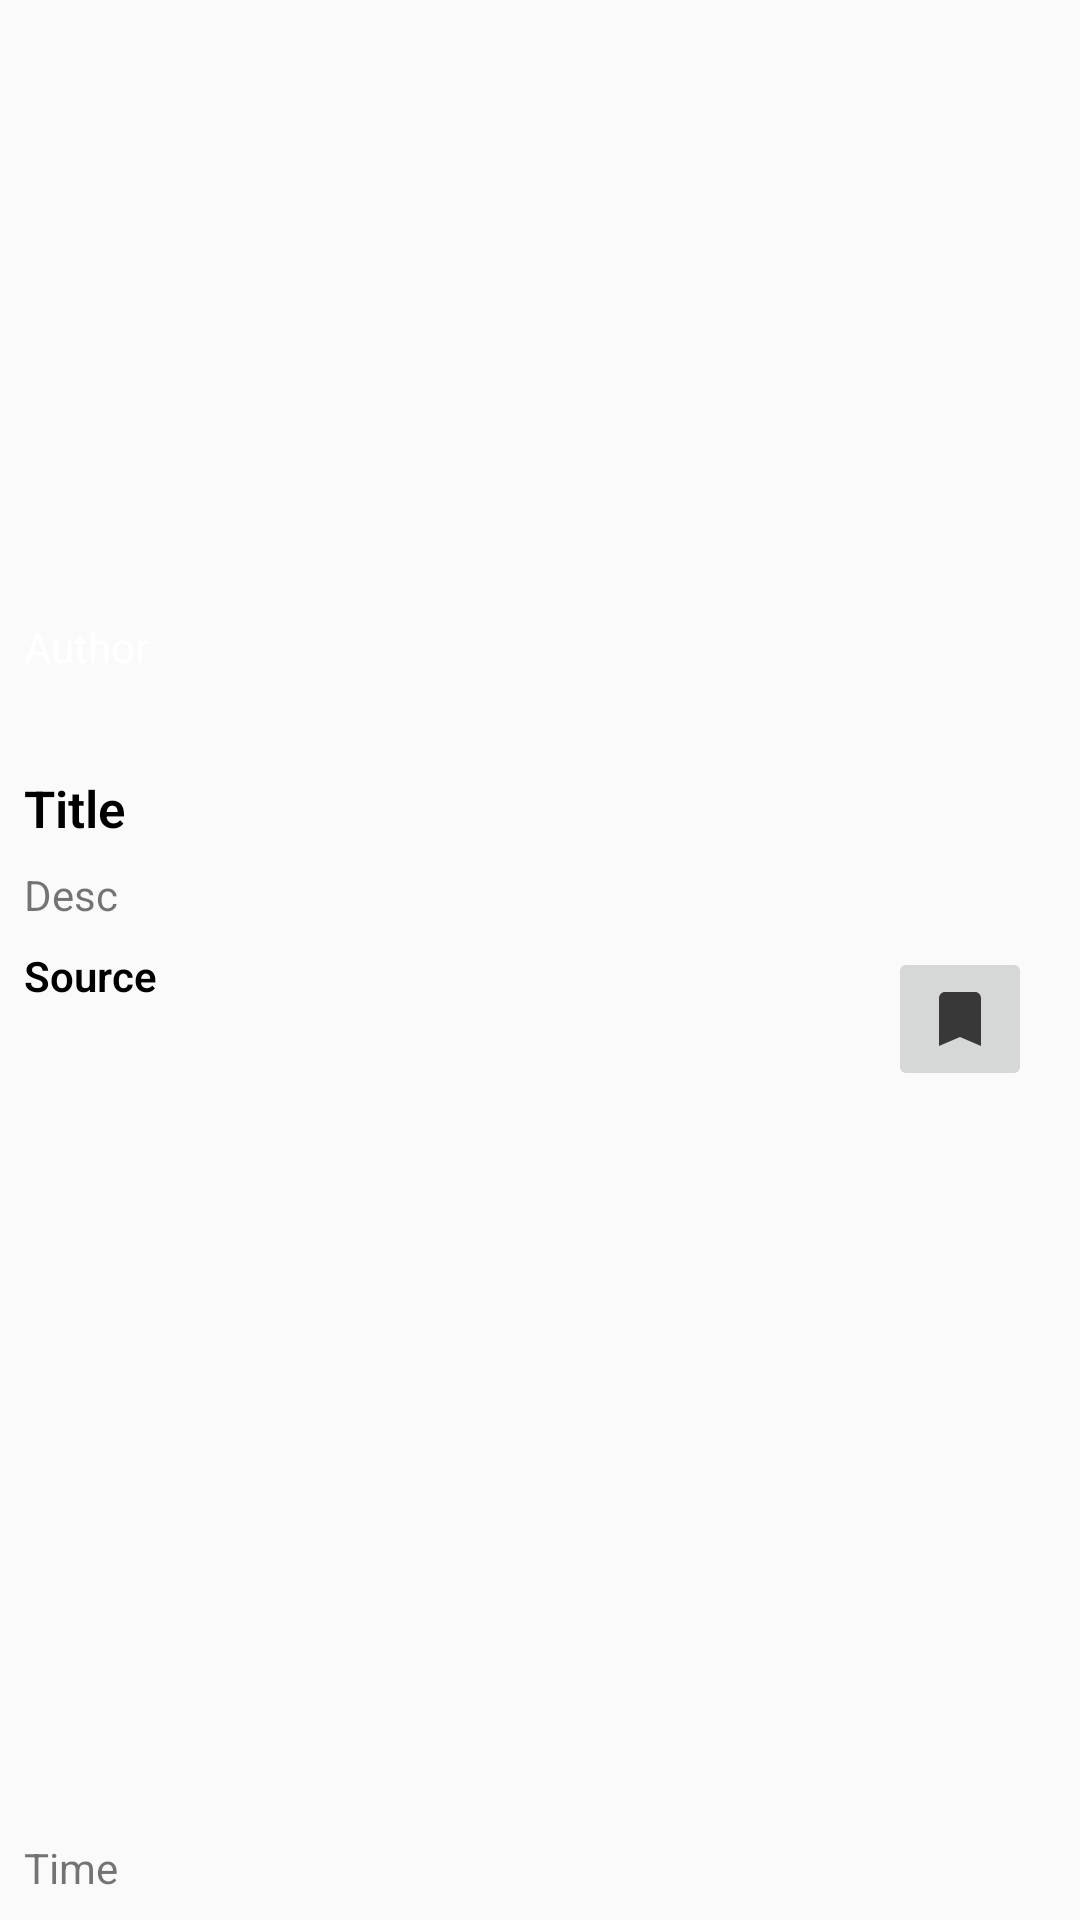

Point at icon controls on the screen. Image size 1080px×1920px, points as [x,y].
bookmark: [960,1019]
